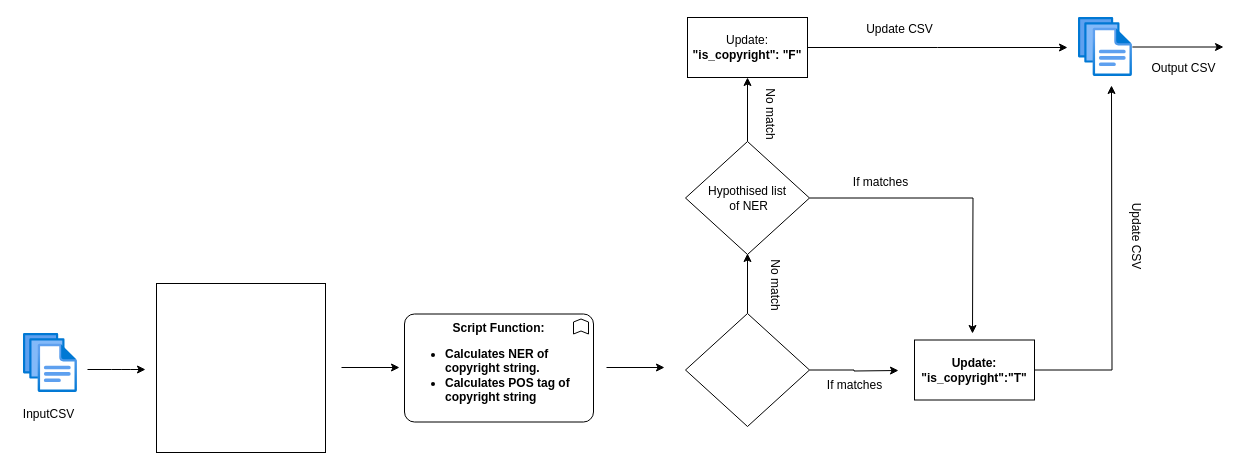
Some shapes in this 1249 by 470 pixel diagram are drawn without their labels. Each missing label, with the box of its shape:
Hypothised list of POS: (684, 312, 810, 426)
Text Pre-processing Lemmatization Removing Stopwords Removing Punctuations: (156, 282, 326, 452)
